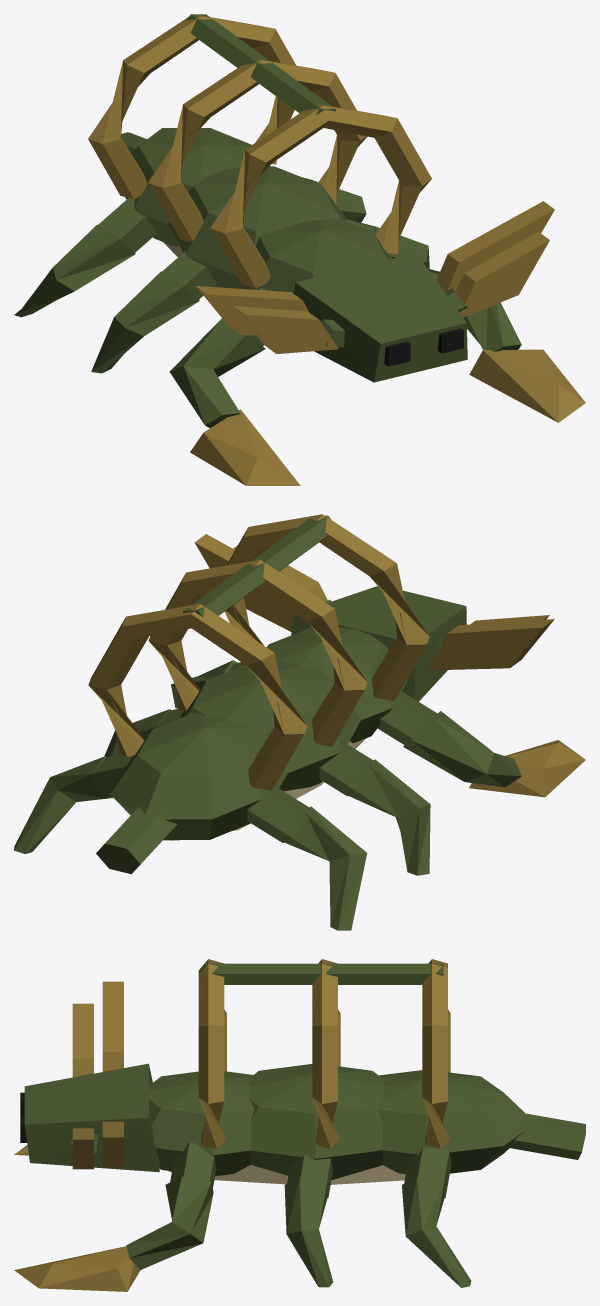
The model's file is trellisect.glb.
3 views of the same model, one above another, from view 1: azimuth 30°, elevation 25°; view 2: azimuth 150°, elevation 25°; view 3: azimuth 270°, elevation 25° (orthographic). The views are drawn at different scales.
Visible parts, largest first — view 1: Trellisect; view 2: Trellisect; view 3: Trellisect.
Boxes of the visible parts, x1=… form: Trellisect: x1=14, y1=14, x2=585, y2=485; Trellisect: x1=14, y1=514, x2=585, y2=930; Trellisect: x1=14, y1=959, x2=585, y2=1291.
Bounding box in the file's own units: 0.96 × 0.7 × 1.46.
